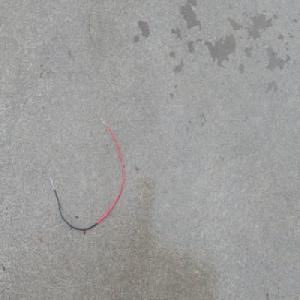Wire: (48, 116, 125, 231)
